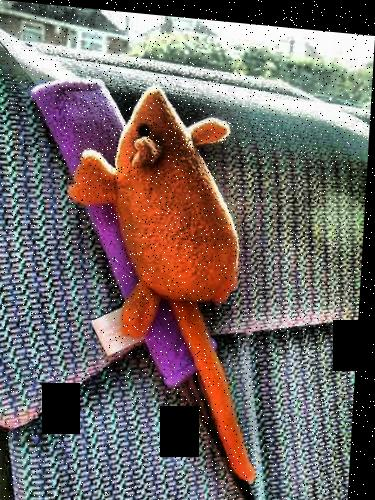seatbelt: (18, 52, 301, 500)
